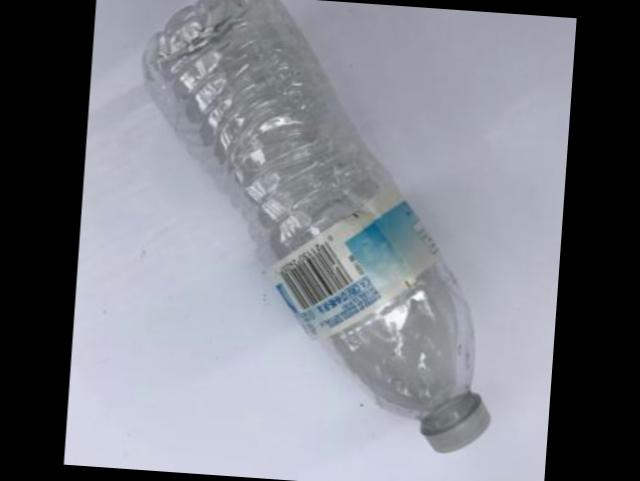plastic: (141, 0, 487, 453)
